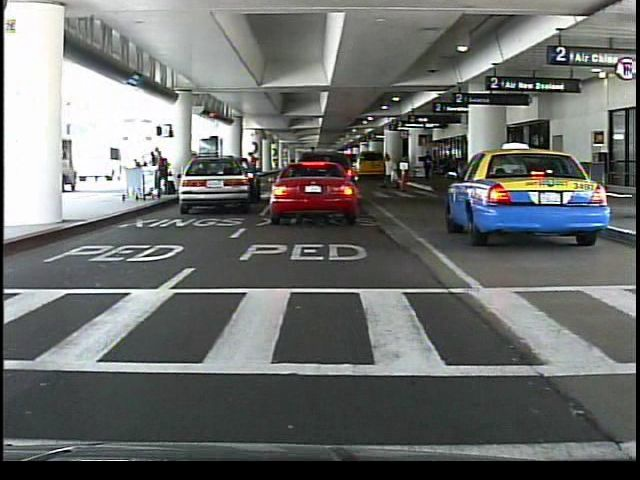person: (242, 149, 261, 202), (282, 156, 302, 206), (305, 152, 320, 202), (155, 146, 170, 196), (384, 150, 399, 188), (419, 148, 434, 183)
